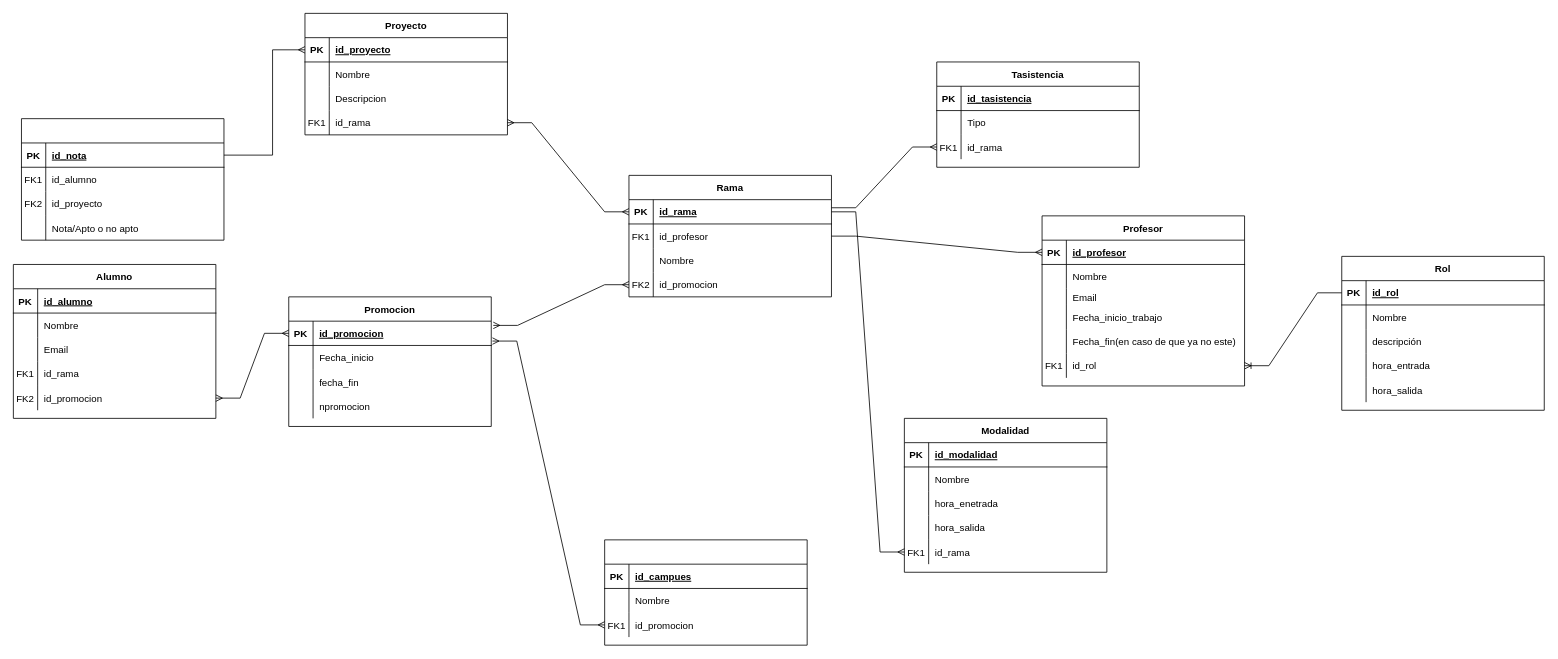
The diagram is 1558 pixels wide and 659 high, and some of its shapes have lost their labels. Each missing label, with the box of its shape:
Aprobado: (21, 118, 224, 240)
Campus: (604, 539, 807, 645)
